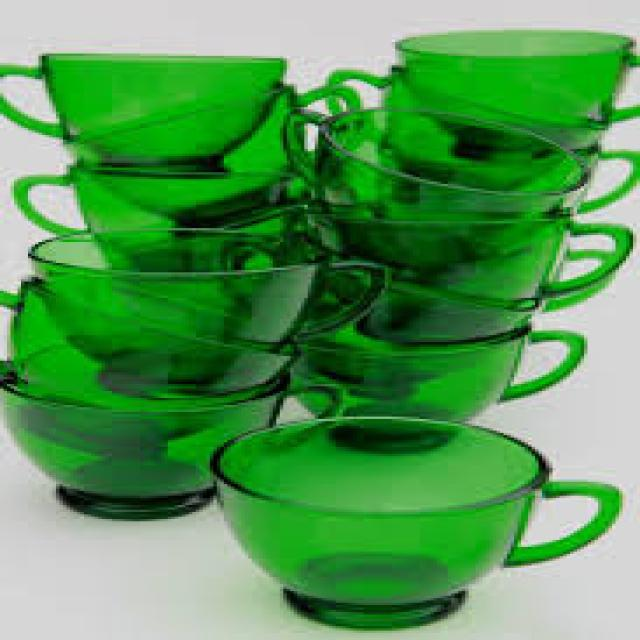glass: (210, 412, 619, 628), (32, 228, 388, 398), (0, 356, 343, 521), (276, 105, 577, 277), (0, 276, 290, 451), (14, 168, 332, 317), (63, 79, 357, 231), (305, 200, 630, 335), (262, 233, 532, 393), (273, 324, 581, 449), (0, 51, 283, 176), (395, 28, 637, 144), (374, 130, 637, 233)
